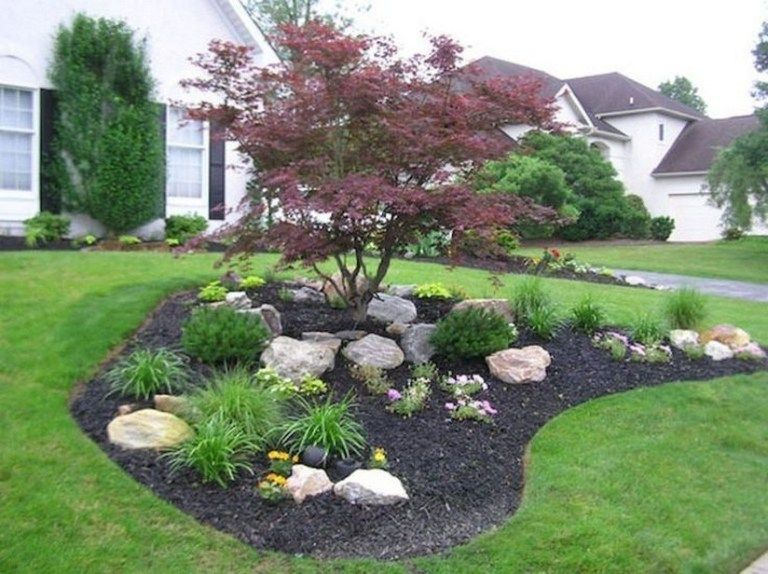tree: (188, 26, 533, 322), (39, 12, 166, 235)
